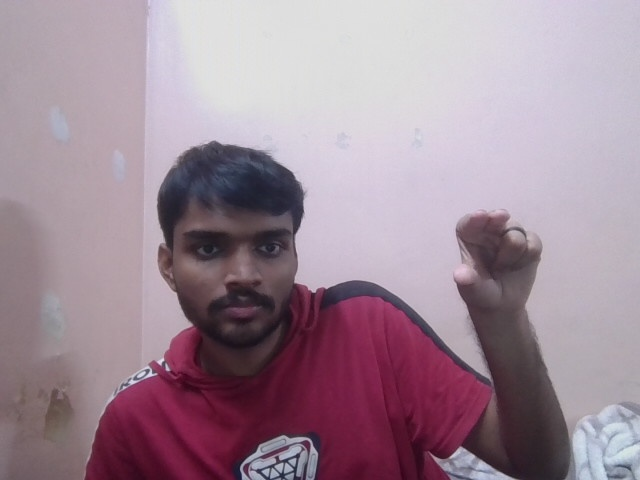No: (445, 204, 545, 314)
